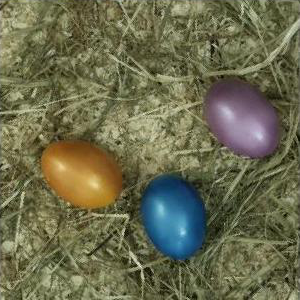egg: (205, 78, 282, 158), (142, 175, 207, 261), (41, 140, 123, 208)
